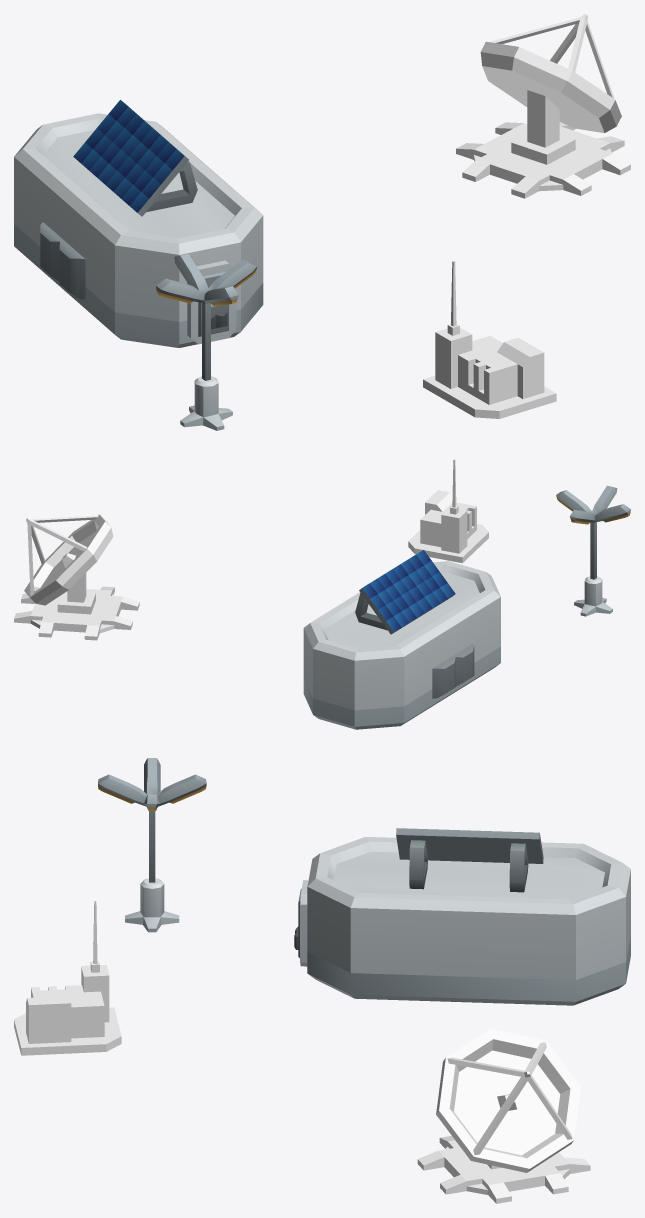
Rendered from Research_2.glb.
3 views of the same model, one above another, from view 1: azimuth 30°, elevation 25°; view 2: azimuth 150°, elevation 25°; view 3: azimuth 270°, elevation 25° (orthographic). The views are drawn at different scales.
Parts seen in each view (by area): view 1: cargodepot_C, satelliteDish_detailed, machine_wirelessCable, lights.001; view 2: cargodepot_C, satelliteDish_detailed, machine_wirelessCable, lights.001; view 3: cargodepot_C, satelliteDish_detailed, machine_wirelessCable, lights.001.
Boxes of the visible parts, box(x1,y1,x2,y2) form: cargodepot_C: box(14, 100, 263, 347); satelliteDish_detailed: box(456, 14, 630, 198); machine_wirelessCable: box(423, 261, 556, 418); lights.001: box(156, 253, 257, 430); cargodepot_C: box(303, 550, 500, 729); satelliteDish_detailed: box(14, 514, 139, 640); machine_wirelessCable: box(408, 459, 488, 563); lights.001: box(556, 485, 630, 616); cargodepot_C: box(294, 828, 630, 1005); satelliteDish_detailed: box(417, 1028, 590, 1203); machine_wirelessCable: box(14, 900, 121, 1055); lights.001: box(98, 758, 206, 932).
Size of the model in its own units: 4.52 by 1.04 by 3.86.
3 materials, 2 textured.
